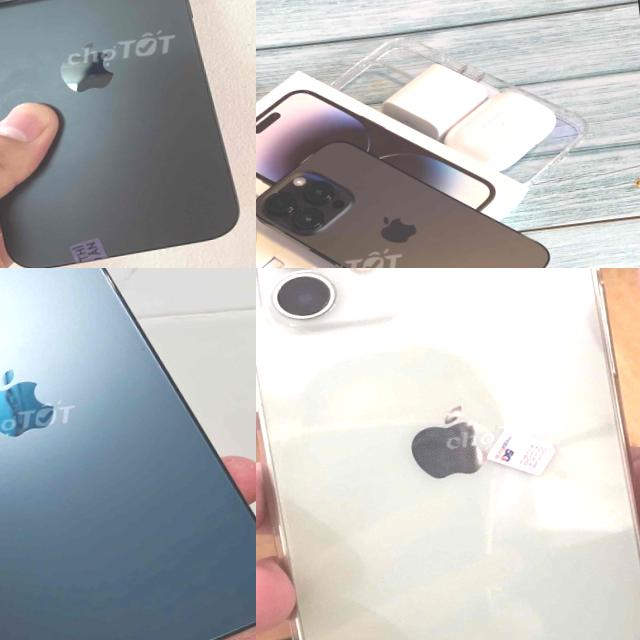gen_12_13: (256, 268, 640, 640), (0, 268, 256, 640)
gen_14: (256, 113, 567, 268)
gen_15: (0, 0, 253, 268)
